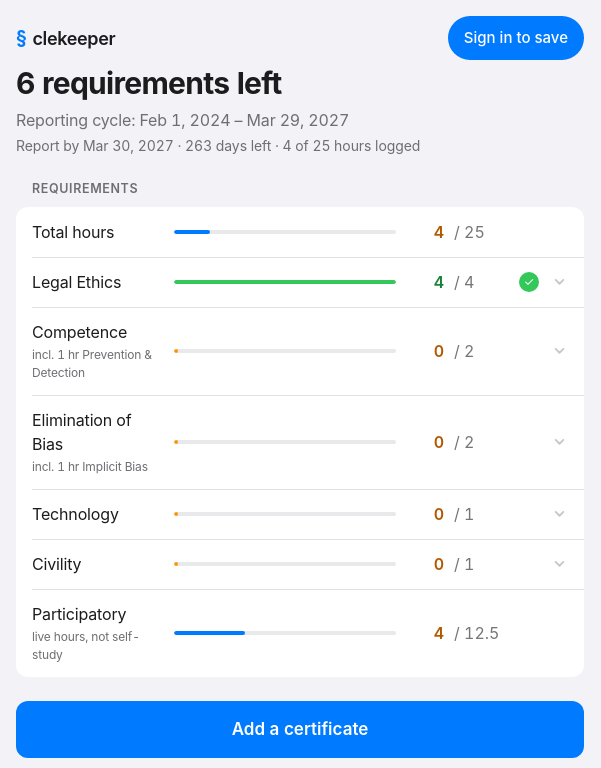
Scenario: lets a category row expand to its contributing credits, and does not expand Total hours or Participatory
Click the button with class "rowbar" showing "Legal Ethics 4 / 4 ✓".
click(299, 282)  # box top-left (32, 272), bottom-right (566, 292)
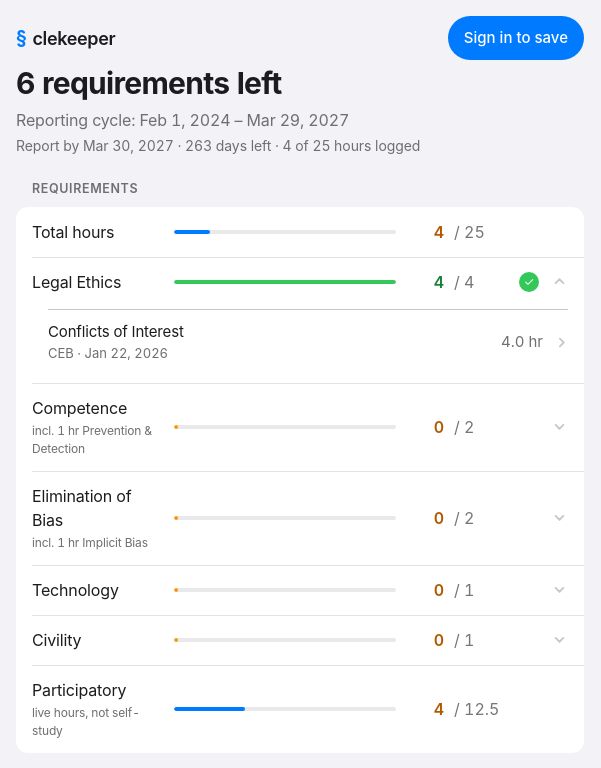
Now the button with class "crow" is shown, box top-left (48, 308), bottom-right (568, 374)
Now the text "Conflicts of Interest" is shown, box top-left (48, 322), bottom-right (184, 340)
